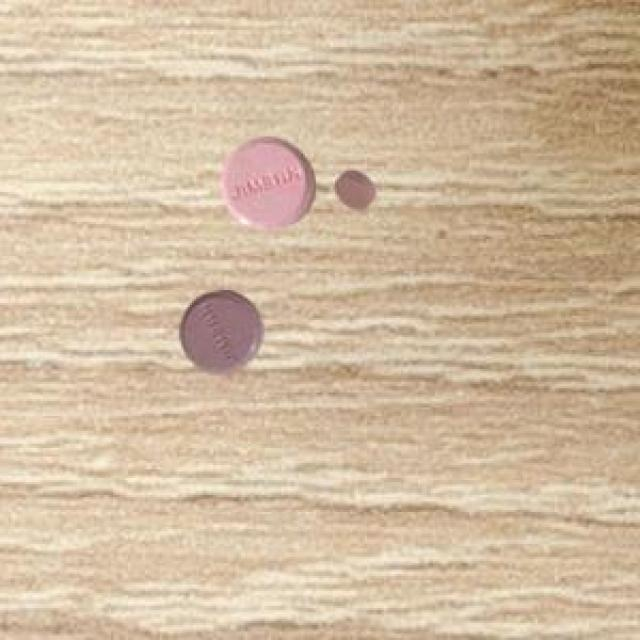Kremil_S: (215, 128, 324, 242), (167, 279, 273, 384), (331, 164, 386, 223)
